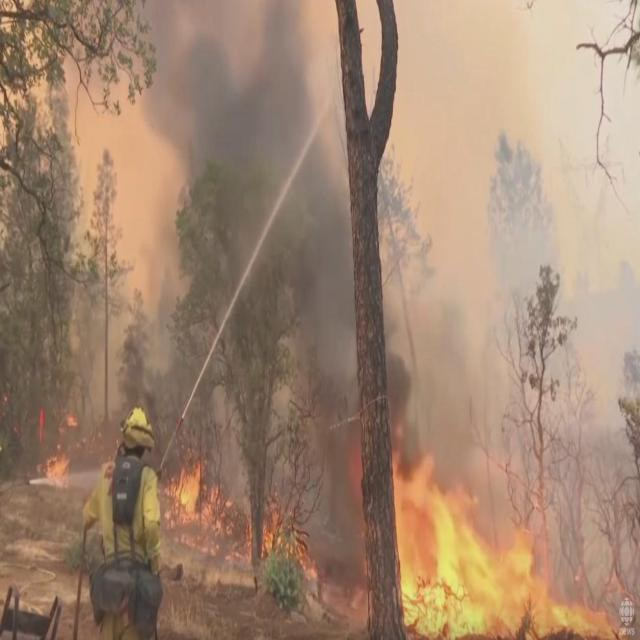fire: (392, 498, 525, 628)
